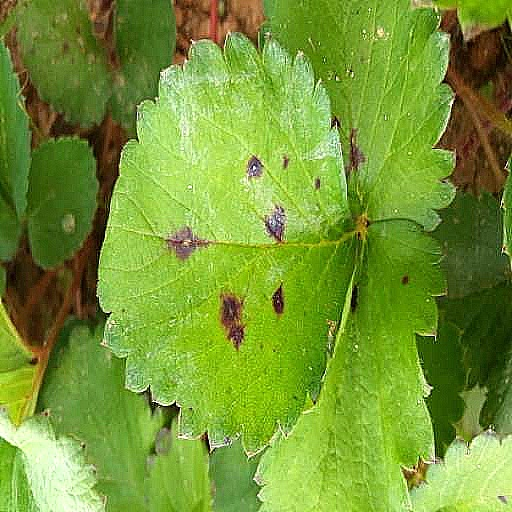Leaf Spot: (96, 53, 364, 482), (252, 0, 450, 294), (257, 280, 457, 511), (15, 381, 116, 511), (404, 0, 511, 83)
